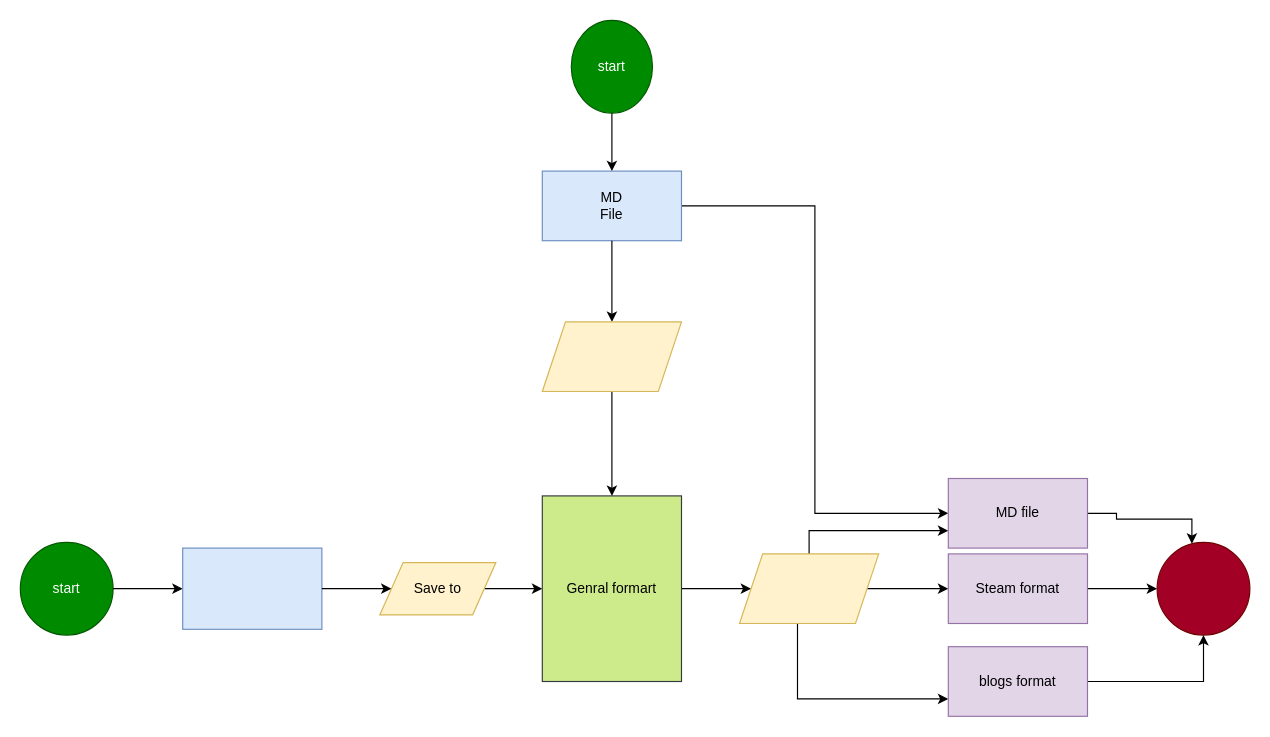
The diagram is 1270 pixels wide and 737 high, and some of its shapes have lost their labels. Here are the shapes that lost their labels. From the top down, the box of each, then its label:
(541, 321, 682, 392): Convert
(182, 547, 322, 629): Custom edotir
(738, 553, 879, 624): Export
(1156, 541, 1250, 635): END
